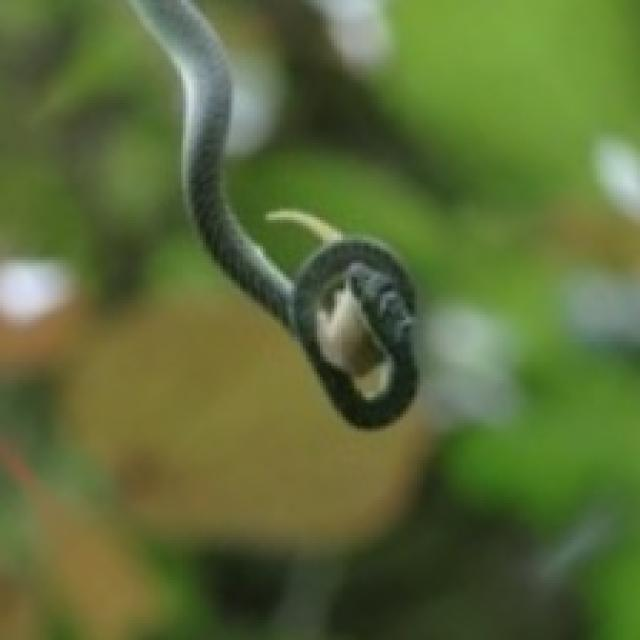paradise tree snake: (129, 0, 414, 426), (131, 0, 414, 426)
